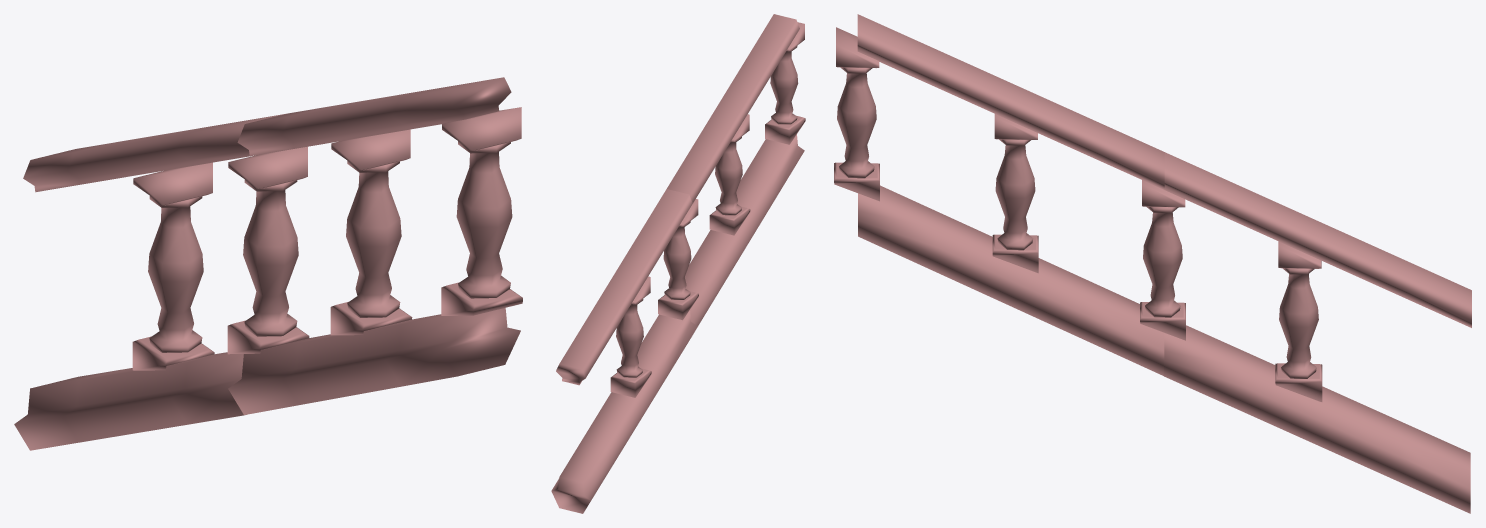
File: Stone_Baluster_D_04_Lod0.fbx
3 views of the same model, side by side, from view 1: azimuth 30°, elevation 25°; view 2: azimuth 150°, elevation 25°; view 3: azimuth 270°, elevation 25° (orthographic). The views are drawn at different scales.
Parts seen in each view (by area): view 1: Stone_Baluster_D_04_Lod0; view 2: Stone_Baluster_D_04_Lod0; view 3: Stone_Baluster_D_04_Lod0.
Boxes of the visible parts, bbox=[...] form: Stone_Baluster_D_04_Lod0: bbox=[14, 77, 522, 450]; Stone_Baluster_D_04_Lod0: bbox=[551, 14, 805, 513]; Stone_Baluster_D_04_Lod0: bbox=[834, 14, 1471, 513].
Size of the model in its own units: 32.21 by 262 by 312.
